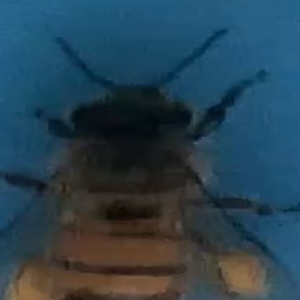bee: (13, 32, 293, 300)
